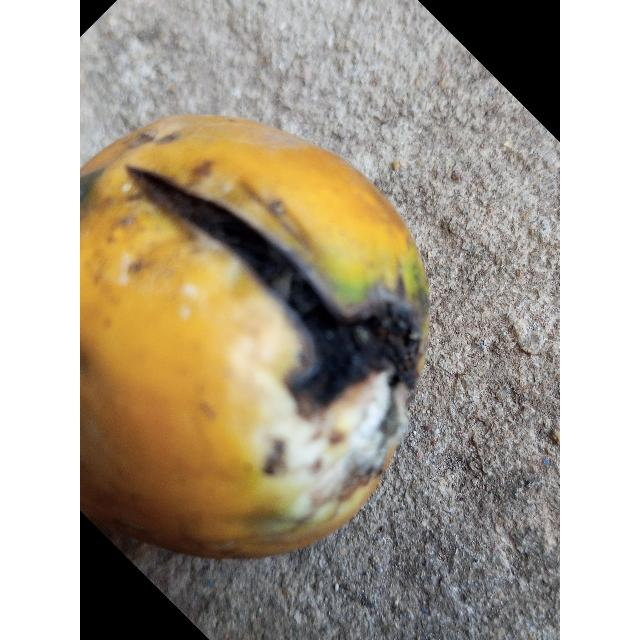damaged: (80, 113, 429, 563)
